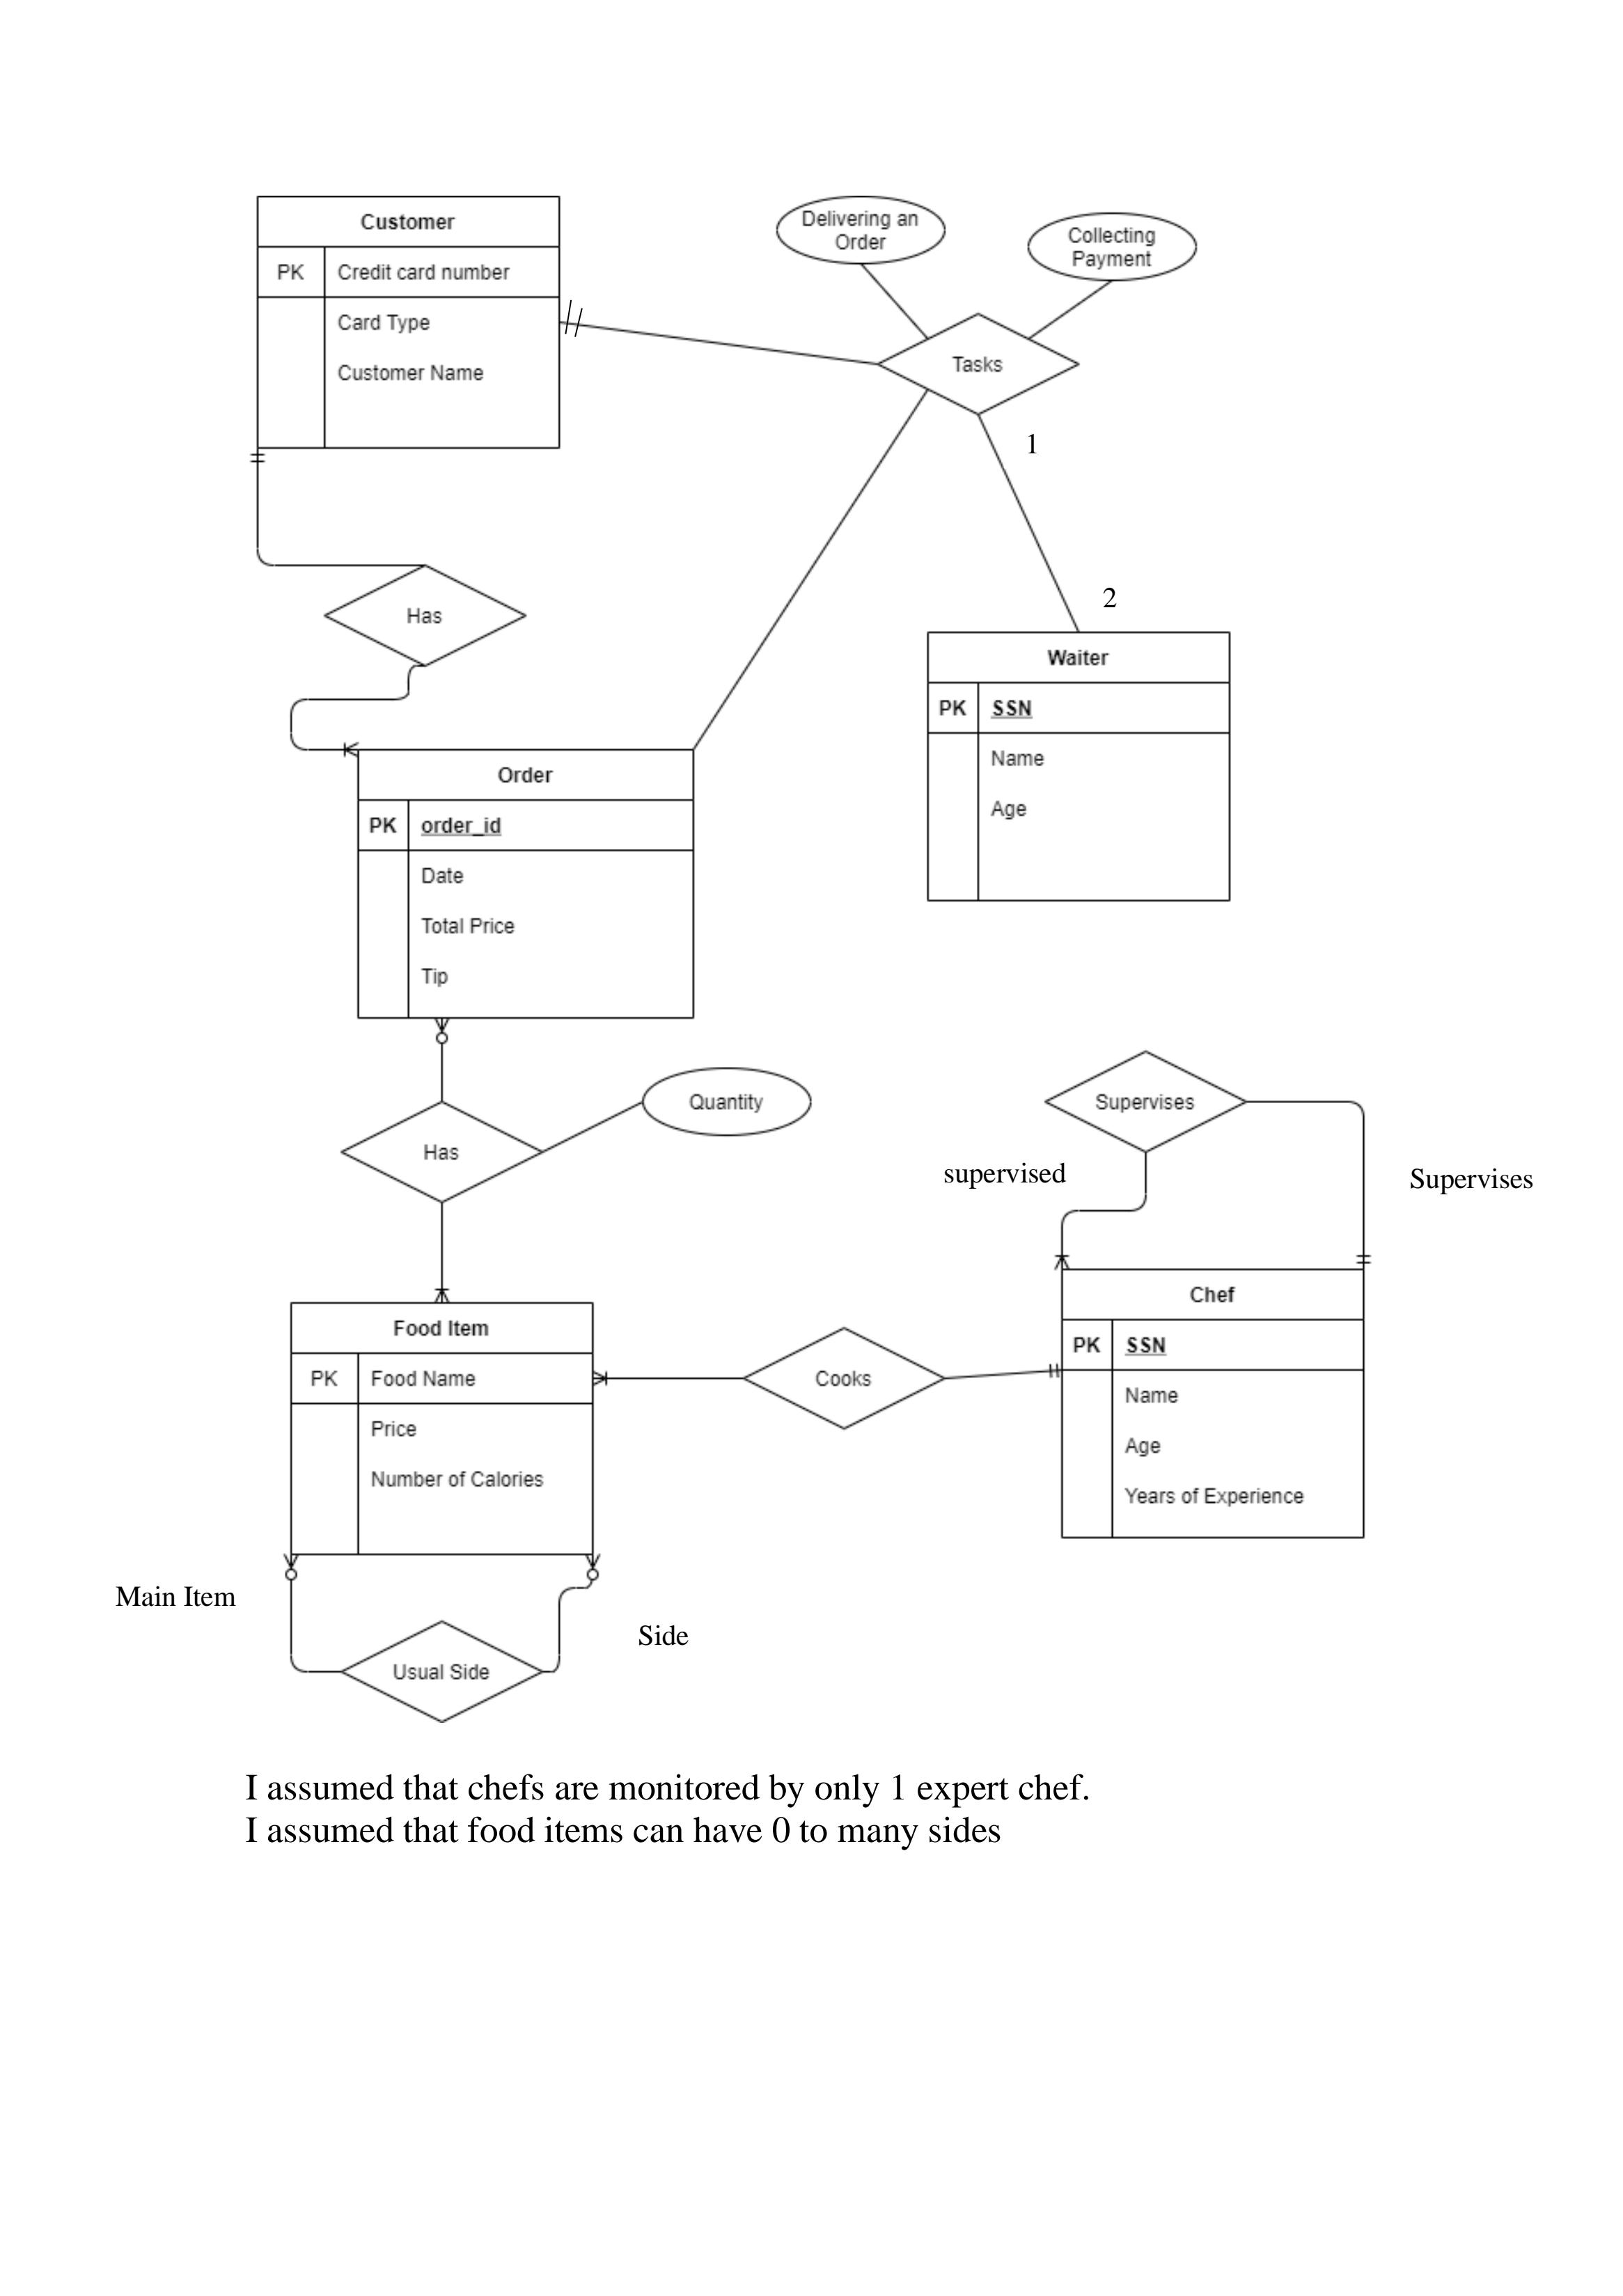Attribute: (641, 1066, 813, 1137), (776, 195, 947, 265), (1028, 213, 1196, 283)
Entity: (357, 748, 696, 1019), (927, 631, 1231, 903), (1061, 1268, 1367, 1539), (256, 195, 562, 450), (290, 1302, 595, 1555)
Relationship: (339, 1100, 545, 1203), (876, 313, 1082, 416), (743, 1326, 945, 1432), (323, 564, 527, 668), (1043, 1049, 1245, 1152), (341, 1620, 541, 1722)
